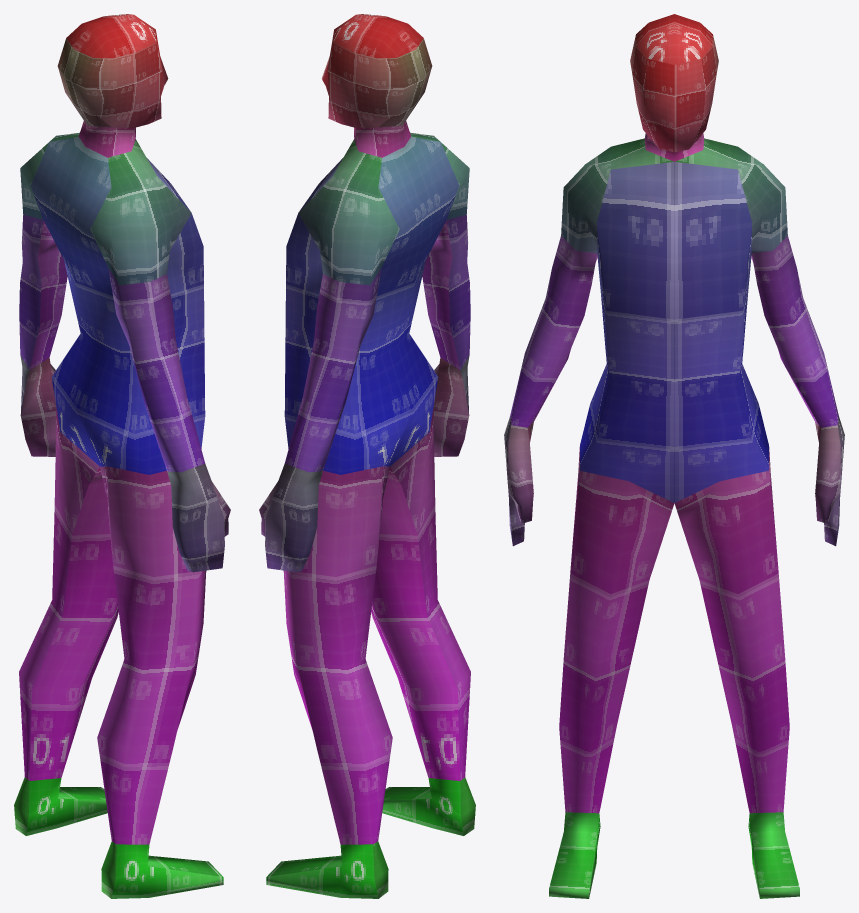
File: lowpoly-male-npc.glb
3 views of the same model, side by side, from view 1: azimuth 30°, elevation 25°; view 2: azimuth 150°, elevation 25°; view 3: azimuth 270°, elevation 25° (orthographic). The views are drawn at different scales.
Parts seen in each view (by area): view 1: Object_2; view 2: Object_2; view 3: Object_2.
Boxes of the visible parts, x1,y1,x2,y2 form: Object_2: (14,14,230,898); Object_2: (259,14,475,898); Object_2: (504,14,844,898).
Bounding box in the file's own units: 0.5122 × 3.14 × 1.14.
Materials: 1 (1 with a texture image).
